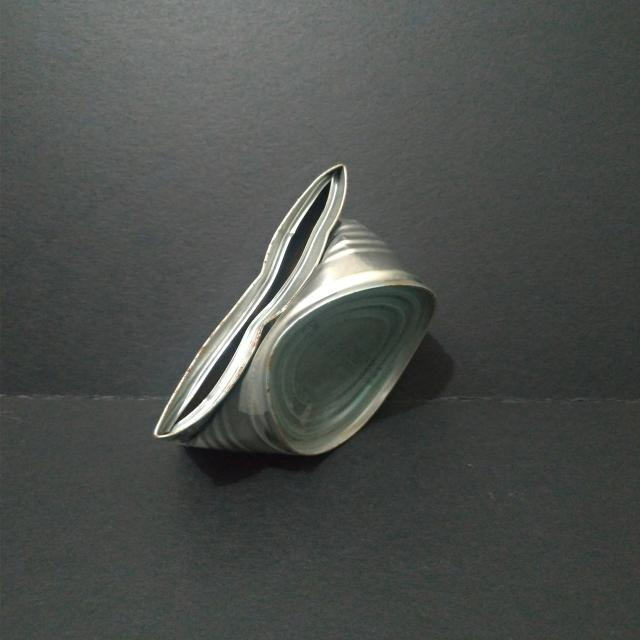metal-can: (148, 160, 444, 460)
